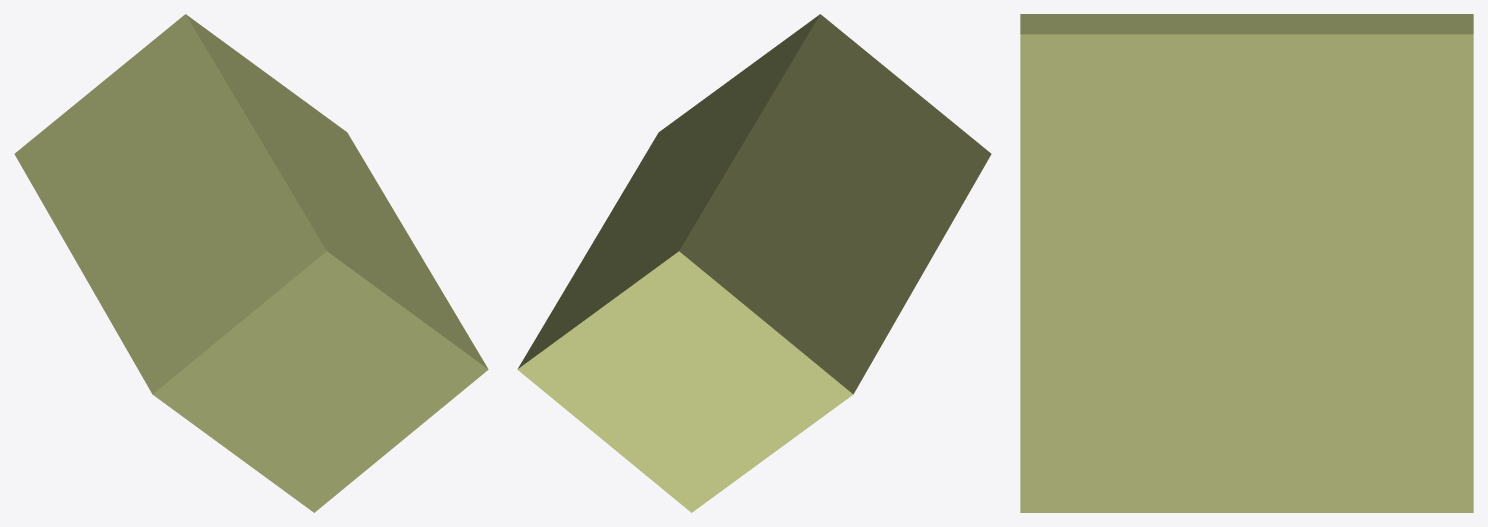
The picture shows the model from 3 angles, left to right: view 1: azimuth 30°, elevation 25°; view 2: azimuth 150°, elevation 25°; view 3: azimuth 270°, elevation 25°; orthographic projection. The views are drawn at different scales.
Parts seen in each view (by area): view 1: 0_1_2_0_0_1_2_0_0_3_3; view 2: 0_1_2_0_0_1_2_0_0_3_3; view 3: 0_1_2_0_0_1_2_0_0_3_3.
Part boxes in pixels (x1,y1,x2,y2): 0_1_2_0_0_1_2_0_0_3_3: (14,14,488,512); 0_1_2_0_0_1_2_0_0_3_3: (517,14,991,512); 0_1_2_0_0_1_2_0_0_3_3: (1020,14,1473,512).
Bounding box in the file's own units: 6.69 × 7.62 × 6.
